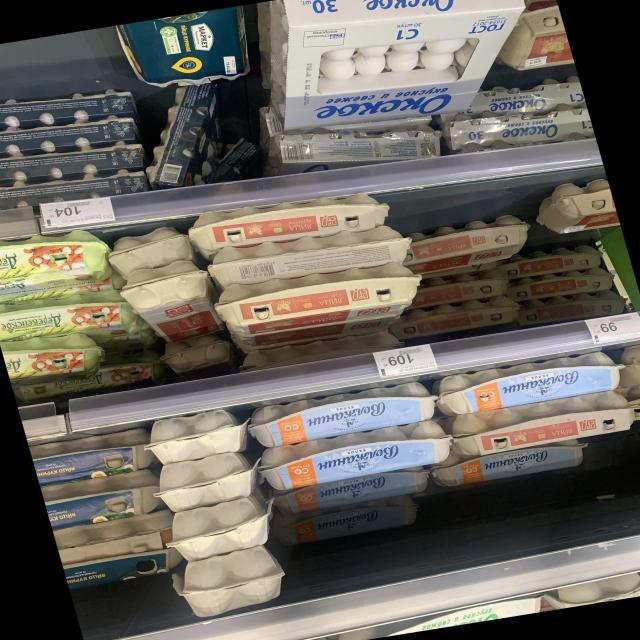organic waste: (216, 257, 429, 339), (190, 188, 393, 255), (452, 390, 640, 460), (29, 428, 163, 488), (42, 471, 175, 531), (166, 497, 274, 560), (152, 451, 260, 514), (141, 407, 249, 470)
